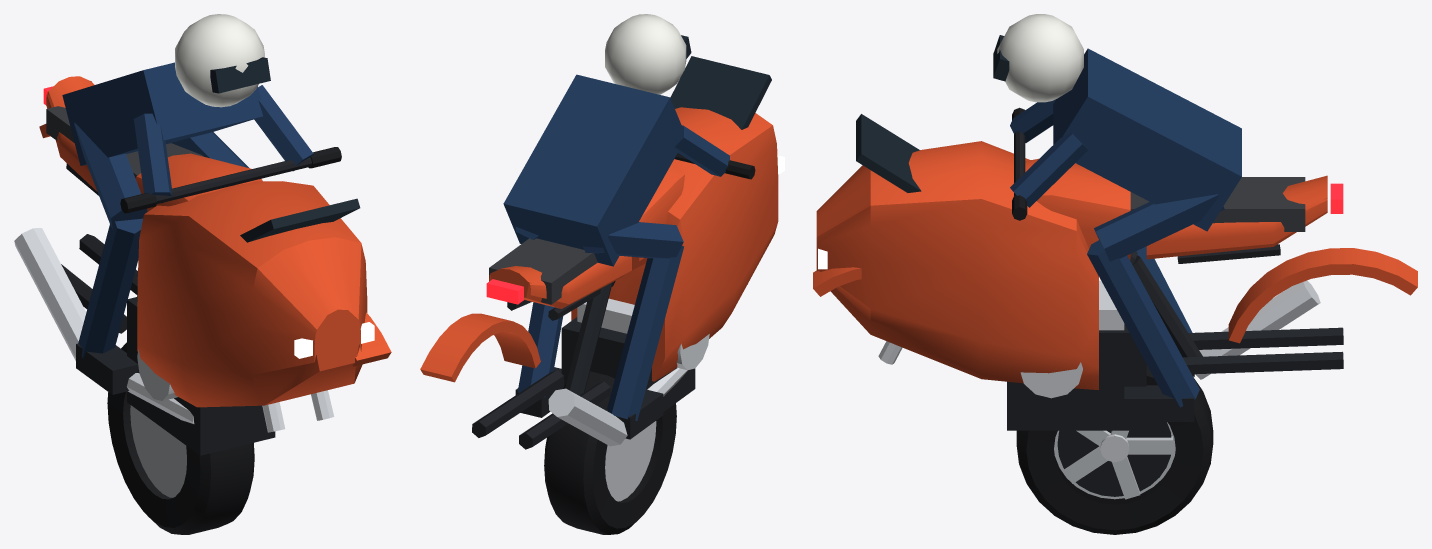
Rendered from sportbike.glb.
The picture shows the model from 3 angles, left to right: view 1: azimuth 30°, elevation 25°; view 2: azimuth 150°, elevation 25°; view 3: azimuth 270°, elevation 25°; orthographic projection. The views are drawn at different scales.
Visible parts, largest first — view 1: body, wheel; view 2: body, wheel; view 3: body, wheel.
Part boxes in pixels (box(x1,y1,x2,y2)): body: box(14, 14, 391, 455); wheel: box(107, 342, 254, 534); body: box(420, 14, 784, 449); wheel: box(544, 371, 676, 534); body: box(813, 14, 1417, 430); wheel: box(1016, 365, 1213, 534).
Size of the model in its own units: 0.74 by 1.77 by 1.91.
